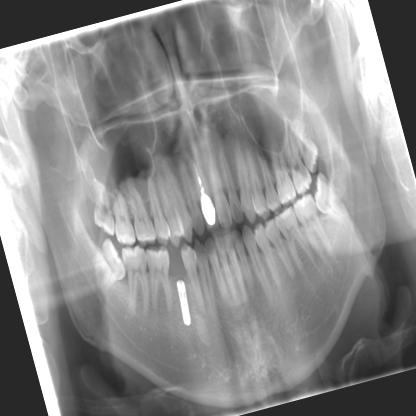ITI: (162, 271, 204, 344)
